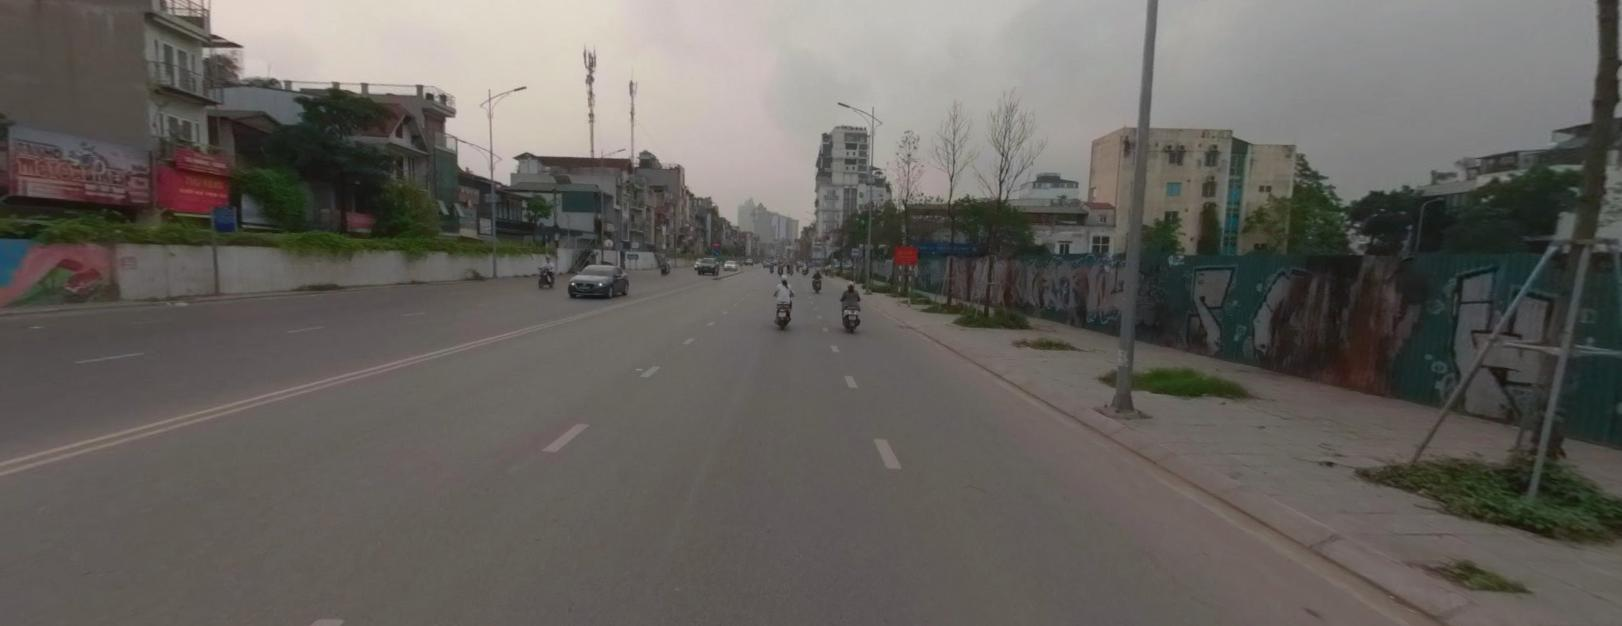Cam nguoc chieu: (712, 239, 719, 246)
Hieu lenh: (712, 247, 719, 254)
